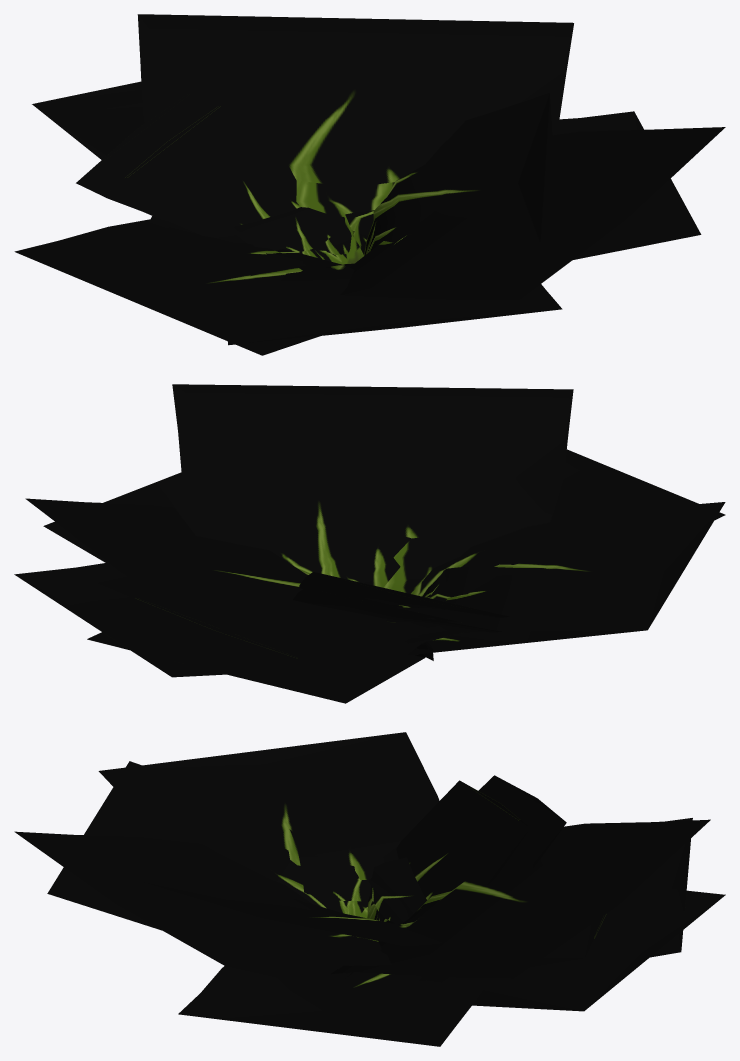
The model's file is Grass_Wilted_LOD.fbx.
3 renders of one model, top to bottom at view 1: azimuth 30°, elevation 25°; view 2: azimuth 150°, elevation 25°; view 3: azimuth 270°, elevation 25°, orthographic. The views are drawn at different scales.
Visible parts, largest first — view 1: Grass_2 (×2), Grass_1 (×2); view 2: Grass_2 (×2), Grass_1 (×2); view 3: Grass_2 (×2), Grass_1 (×2).
Part boxes in pixels (x1,y1,x2,y2): Grass_2 (×2): (32,14,725,345); Grass_1 (×2): (14,89,554,355); Grass_2 (×2): (14,384,725,703); Grass_1 (×2): (98,422,725,671); Grass_2 (×2): (14,761,725,1046); Grass_1 (×2): (99,732,606,974).
Bounding box in the file's own units: 175 × 33.54 × 182.
